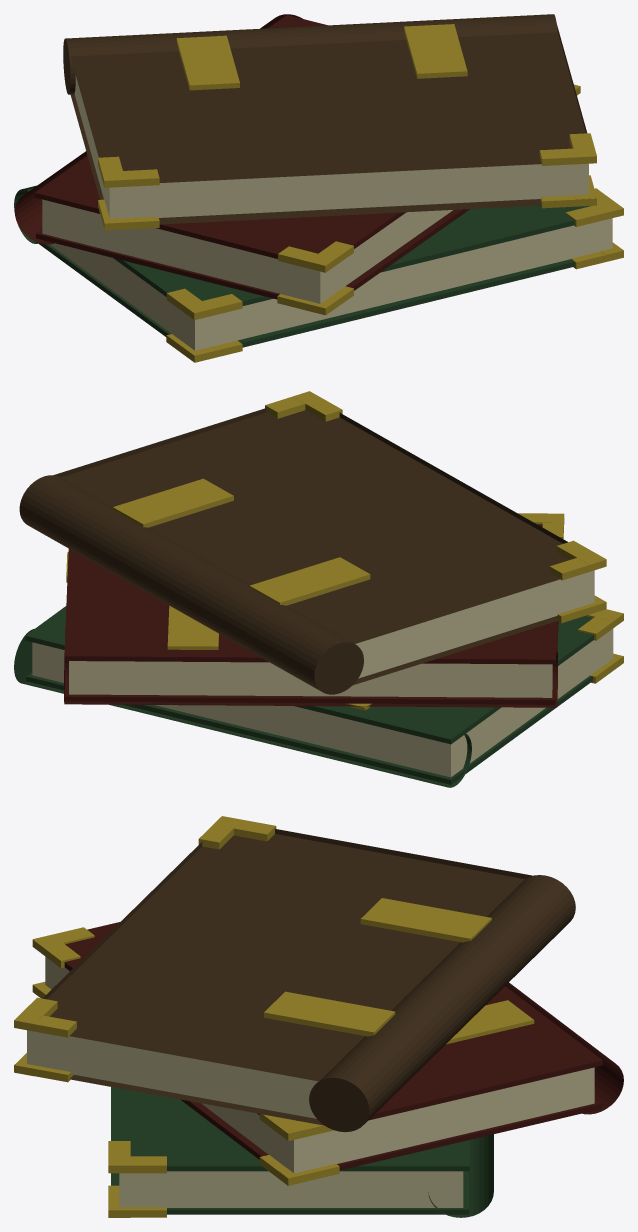
Rendered from Old Books.fbx.
3 views of the same model, one above another, from view 1: azimuth 30°, elevation 25°; view 2: azimuth 150°, elevation 25°; view 3: azimuth 270°, elevation 25° (orthographic). The views are drawn at different scales.
Visible parts, largest first — view 1: Cube.036, Cube, Cube.013; view 2: Cube.036, Cube.013, Cube; view 3: Cube.036, Cube.013, Cube.
Part boxes in pixels (x1,y1,x2,y2): Cube.036: (63,14,596,230); Cube: (14,185,623,362); Cube.013: (14,14,580,315); Cube.036: (19,391,606,694); Cube.013: (64,513,564,707); Cube: (14,606,623,787); Cube.036: (14,816,575,1132); Cube.013: (32,922,623,1185); Cube: (108,1087,493,1217).
Size of the model in its own units: 3.52 by 0.9666 by 3.27.
